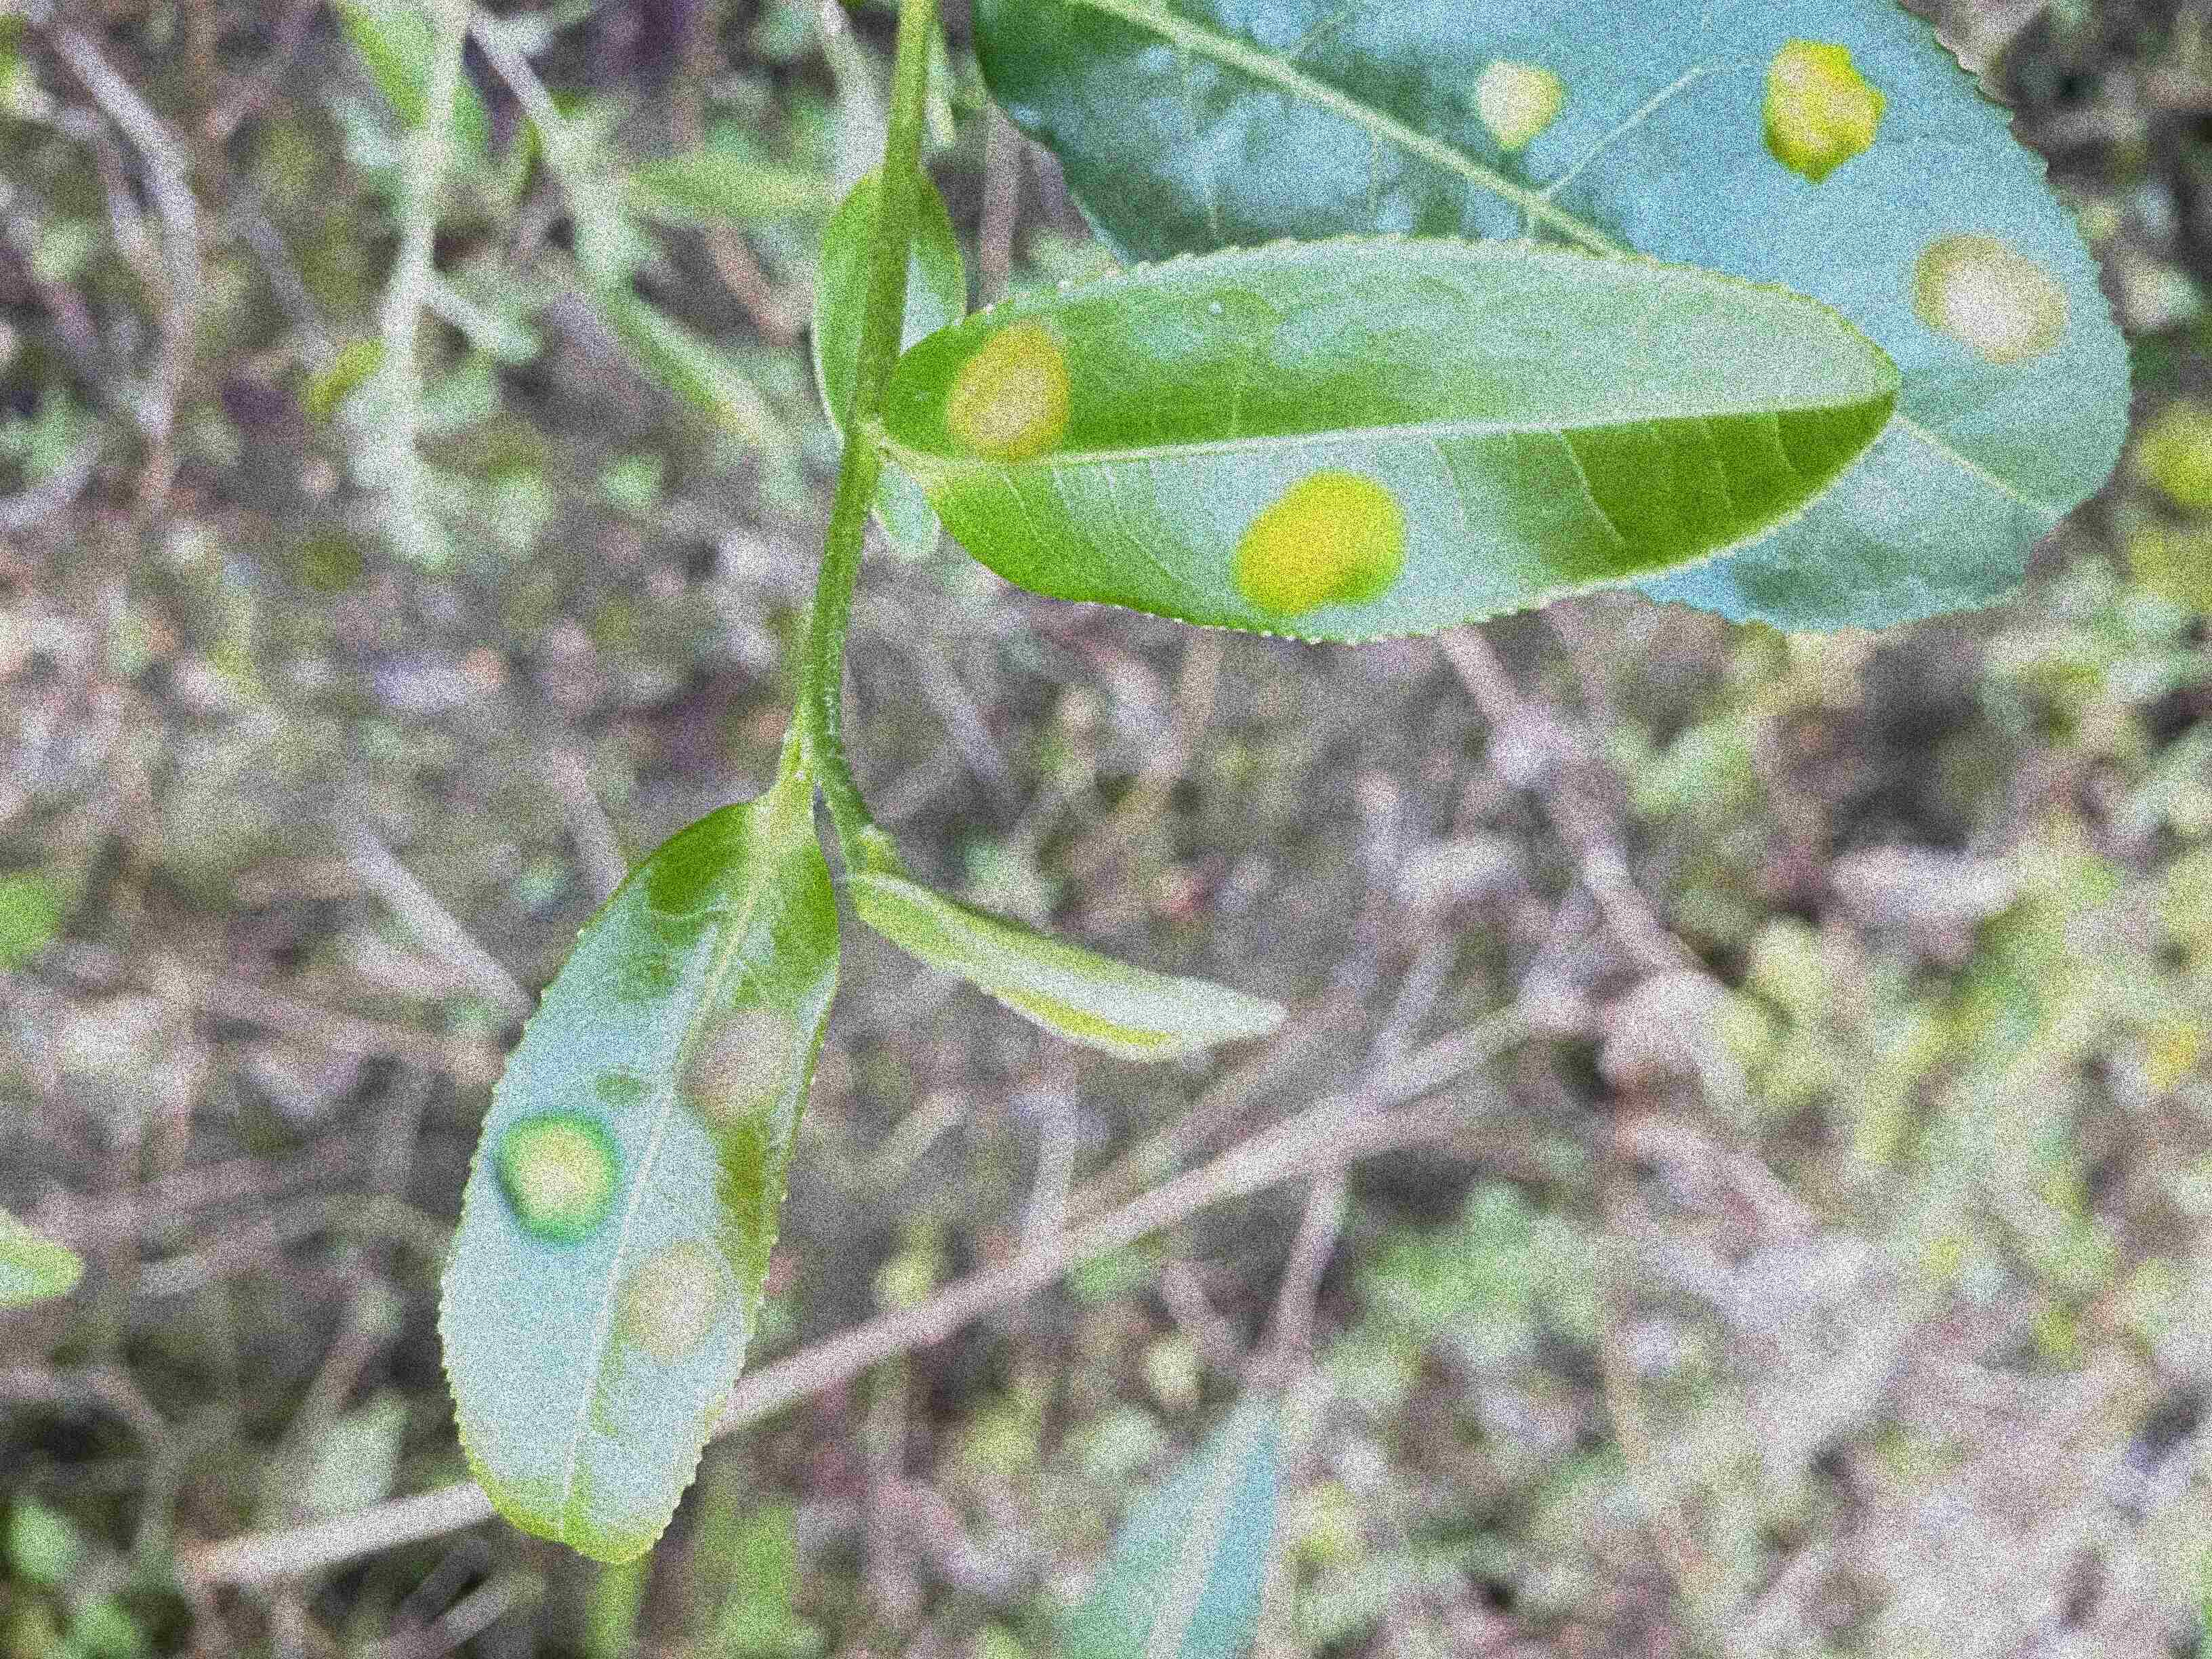chabing_high: (970, 0, 2137, 638), (885, 256, 1902, 647), (435, 795, 845, 1563)
